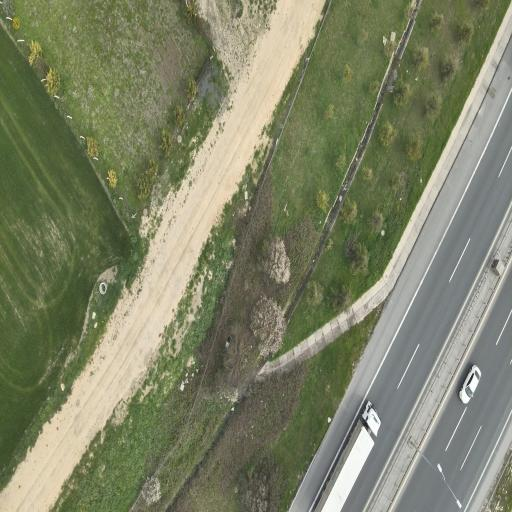car: (315, 402, 379, 511), (459, 366, 480, 403)
